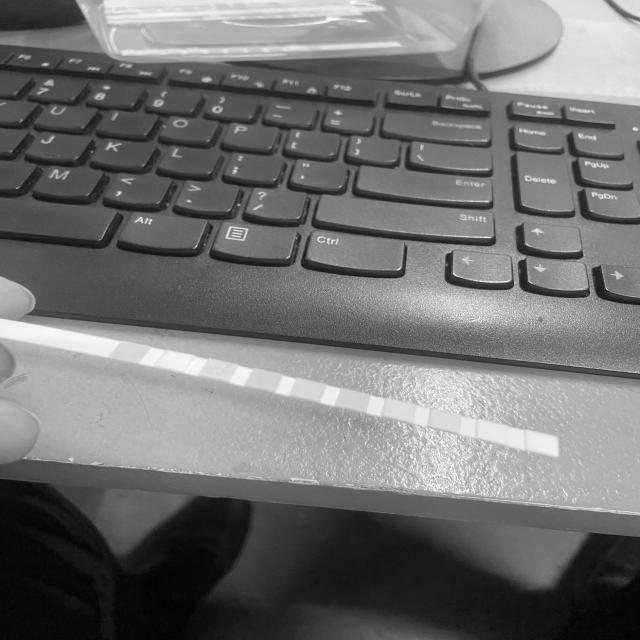Bilirubin: (164, 354, 187, 368)
Blood: (295, 383, 321, 397)
Glucose: (118, 344, 142, 360)
Ketone: (207, 362, 230, 378)
Leukocytes: (526, 438, 558, 450)
Nitrite: (478, 426, 508, 439)
Protein: (384, 405, 414, 417)
SpGravity: (252, 372, 276, 388)
Urobilinogen: (430, 416, 460, 428)
background: (0, 0, 640, 640)
pH: (340, 394, 368, 407)
strip: (1, 319, 560, 457)
